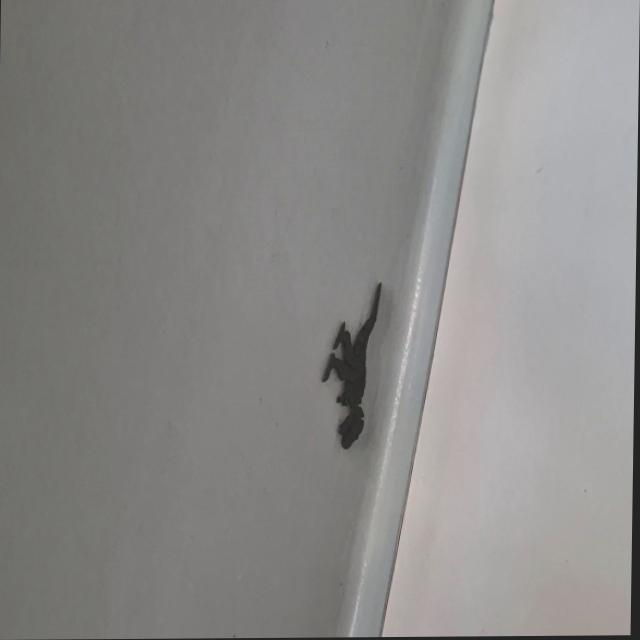dino: (319, 282, 381, 450)
